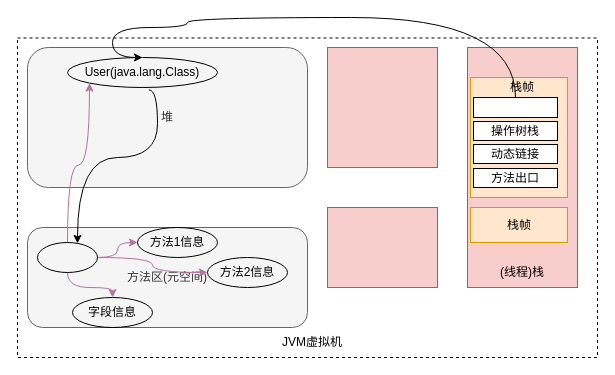
The diagram is 615 pixels wide and 375 high, and some of its shapes have lost their labels. Each missing label, with the centre of its shape:
"User.class" belongs at pixel 67 257.
"局部变量表" belongs at pixel 515 107.
"本地方法栈" belongs at pixel 382 107.
"程序计数器" belongs at pixel 382 247.
